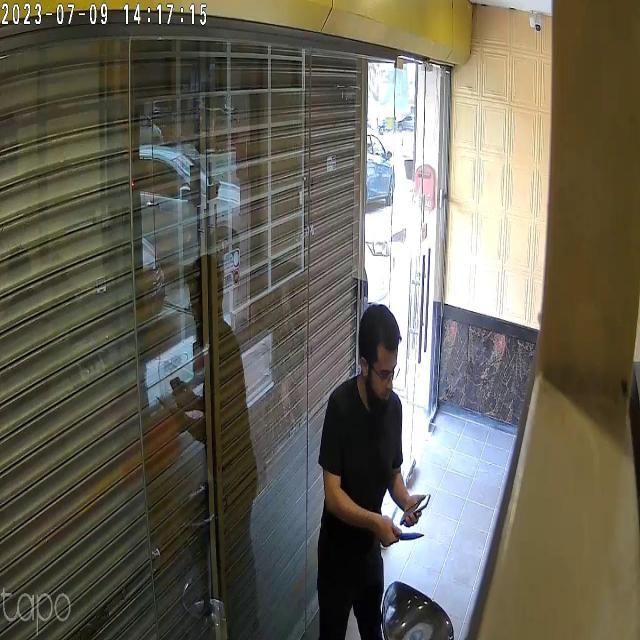Knife: (384, 520, 431, 550)
